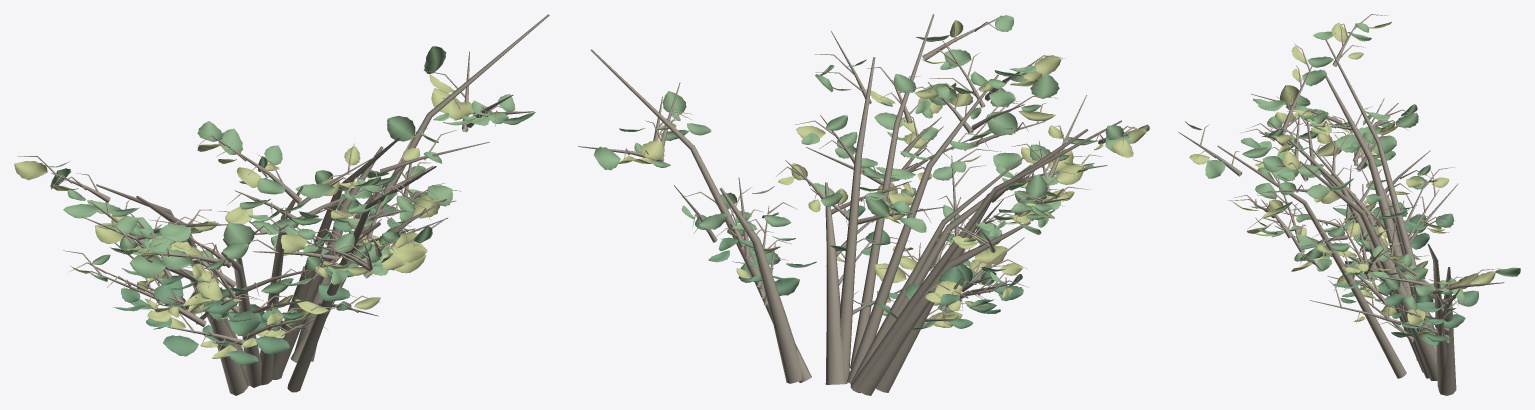
3 renders of one model, left to right at view 1: azimuth 30°, elevation 25°; view 2: azimuth 150°, elevation 25°; view 3: azimuth 270°, elevation 25°, orthographic. The views are drawn at different scales.
Visible parts, largest first — view 1: bush_dry; view 2: bush_dry; view 3: bush_dry.
Boxes of the visible parts, x1,y1,x2,y2 form: bush_dry: (14, 14, 549, 395); bush_dry: (578, 14, 1149, 395); bush_dry: (1178, 14, 1520, 395).
Size of the model in its own units: 2.65 by 1.53 by 1.73.
